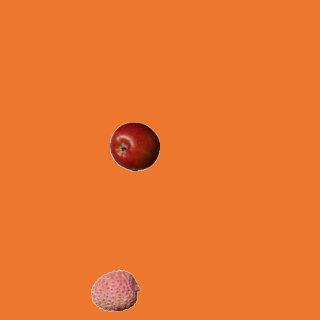Apple Braeburn: (109, 121, 159, 171)
Lychee: (90, 265, 140, 315)
